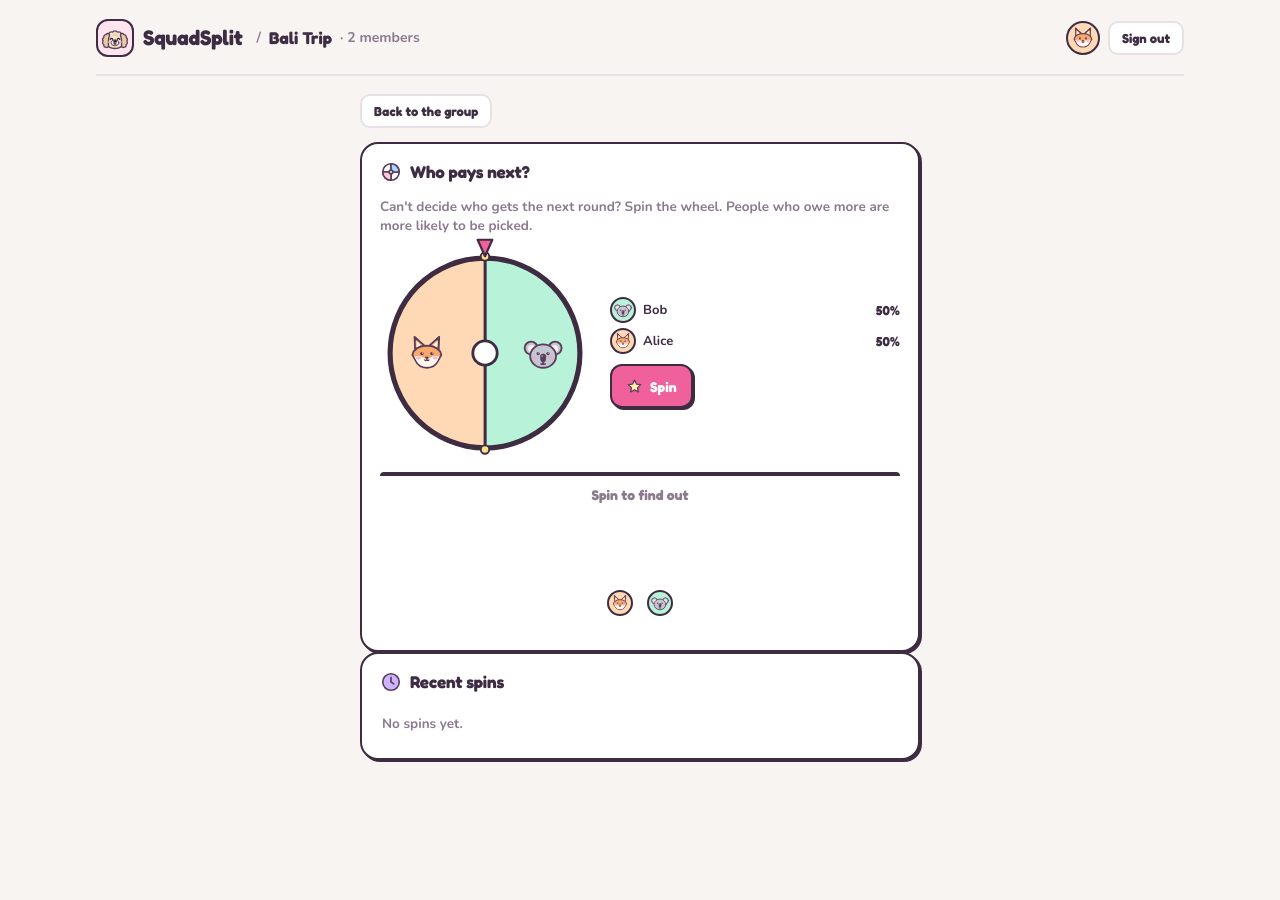
Test case: Wheel › shows why the wheel could not spin
The image size is (1280, 900).
Click the button "Spin" at (651, 386), box [610, 364, 693, 408]
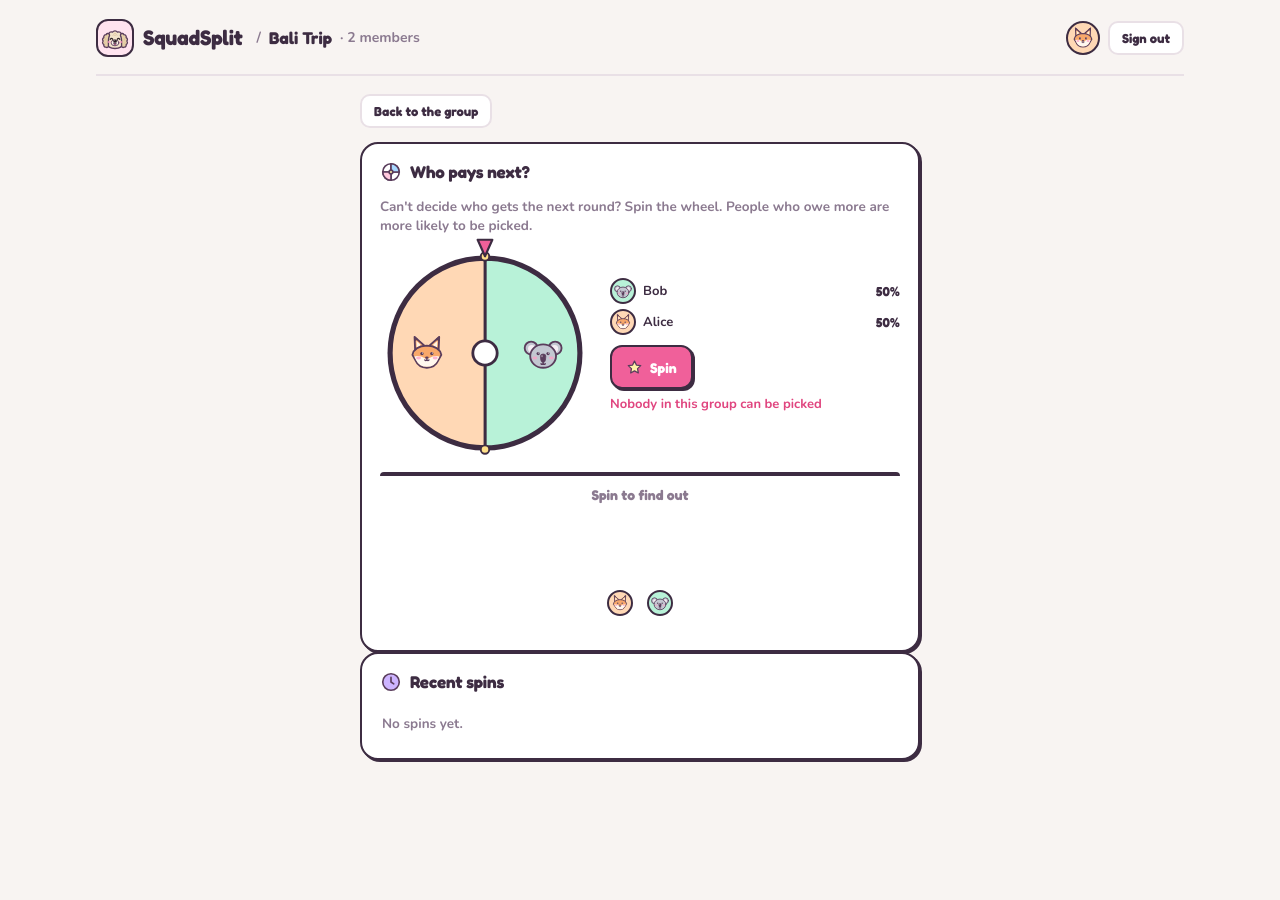
Expected: the button "Spin" is enabled, [610, 345, 693, 389]
Expected: the text "Nobody in this group can be picked" is shown, [610, 395, 822, 413]
